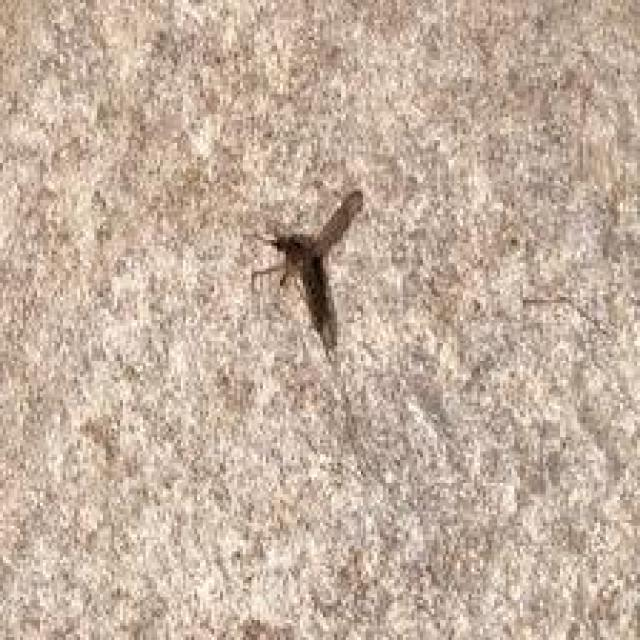Culex: (246, 187, 366, 364)
